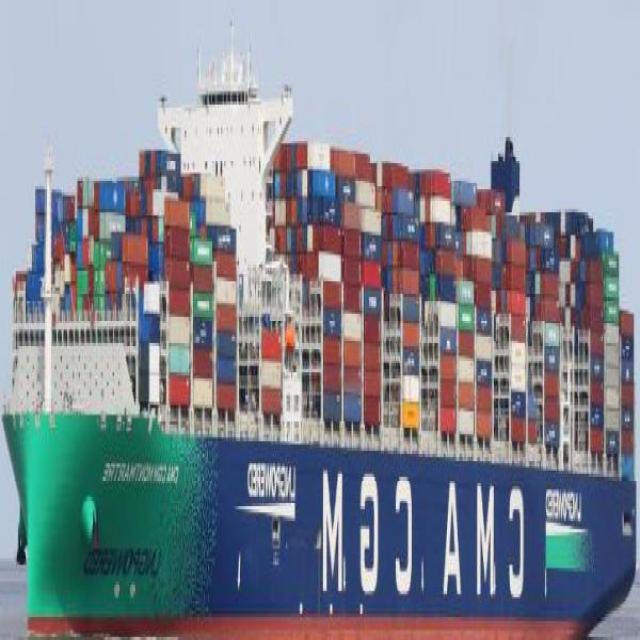Container Ship: (3, 13, 636, 638)
